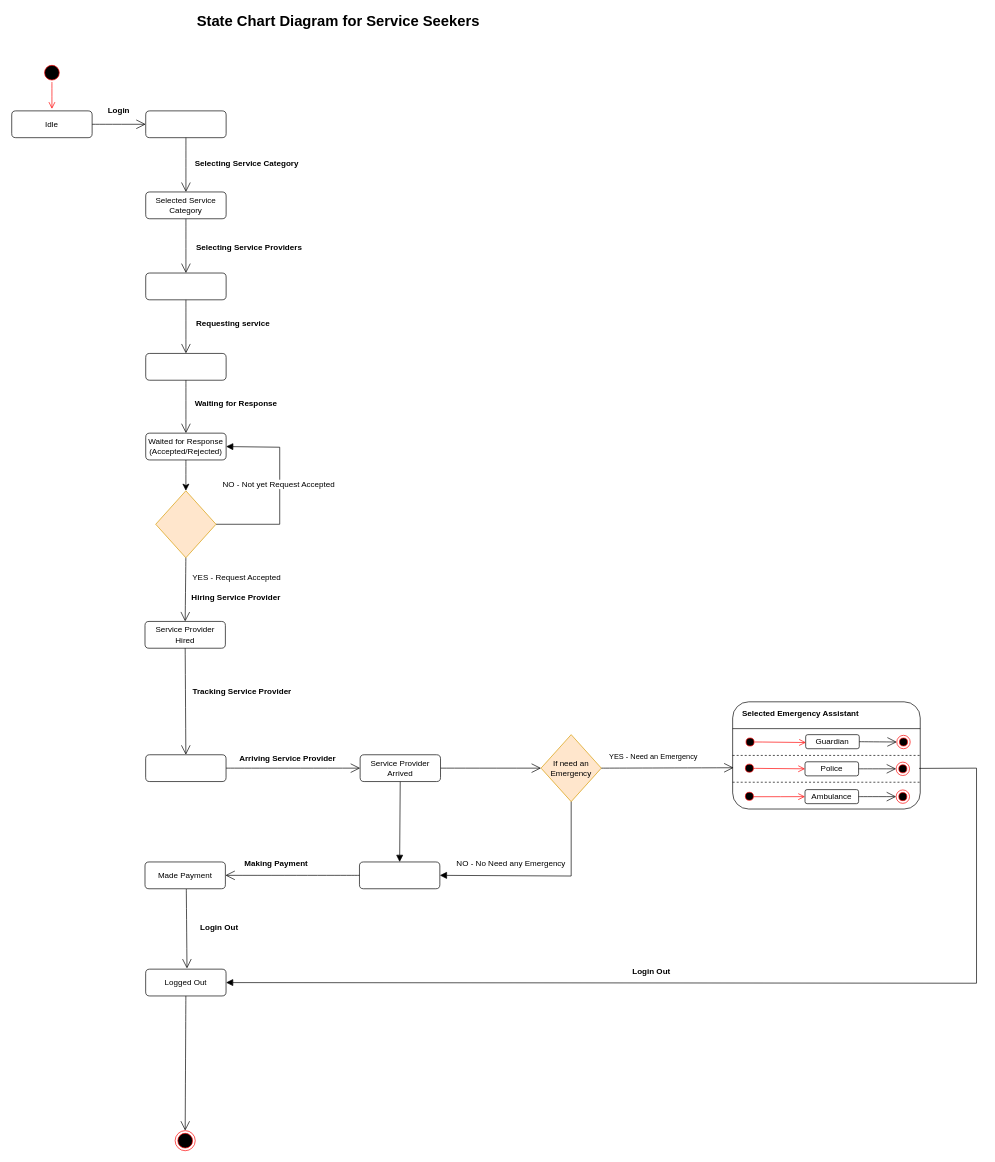
Some shapes in this 995 by 1162 pixel diagram are drawn without their labels. Each missing label, with the box of its shape:
If Request Accepted: (155, 490, 216, 558)
Logged In: (145, 110, 226, 138)
Requested Service: (145, 353, 226, 380)
Selected Service Providers: (145, 272, 226, 300)
Service Completed: (359, 861, 440, 889)
Tracked Service Provider: (145, 754, 226, 782)
